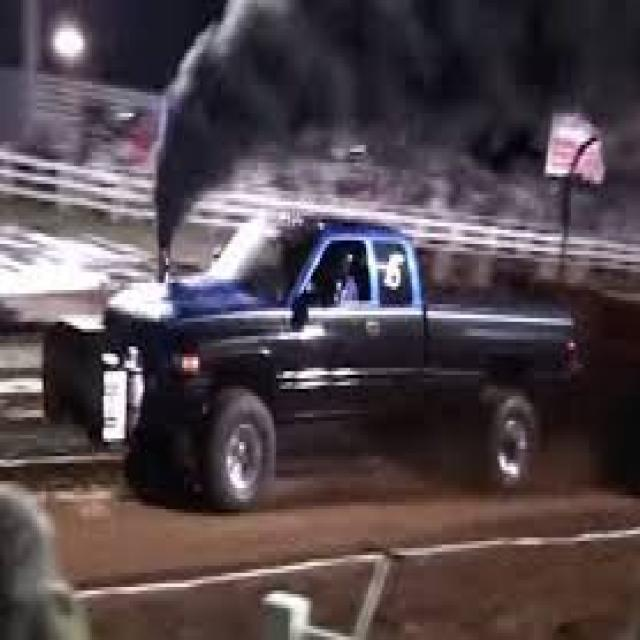Smoke: (155, 0, 640, 249)
